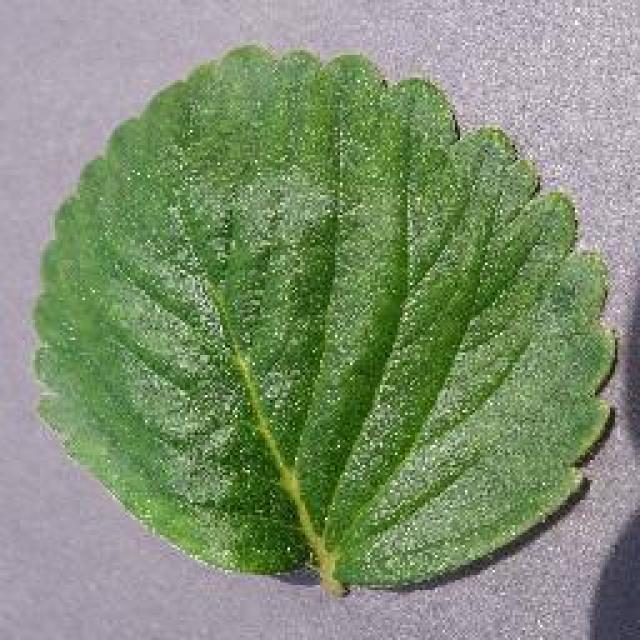Strawberry___healthy: (18, 20, 630, 620)
